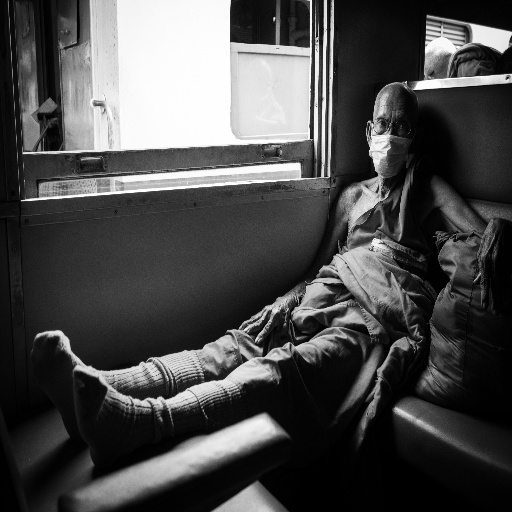hand: (190, 344, 296, 432), (470, 219, 511, 316), (235, 293, 292, 351)
